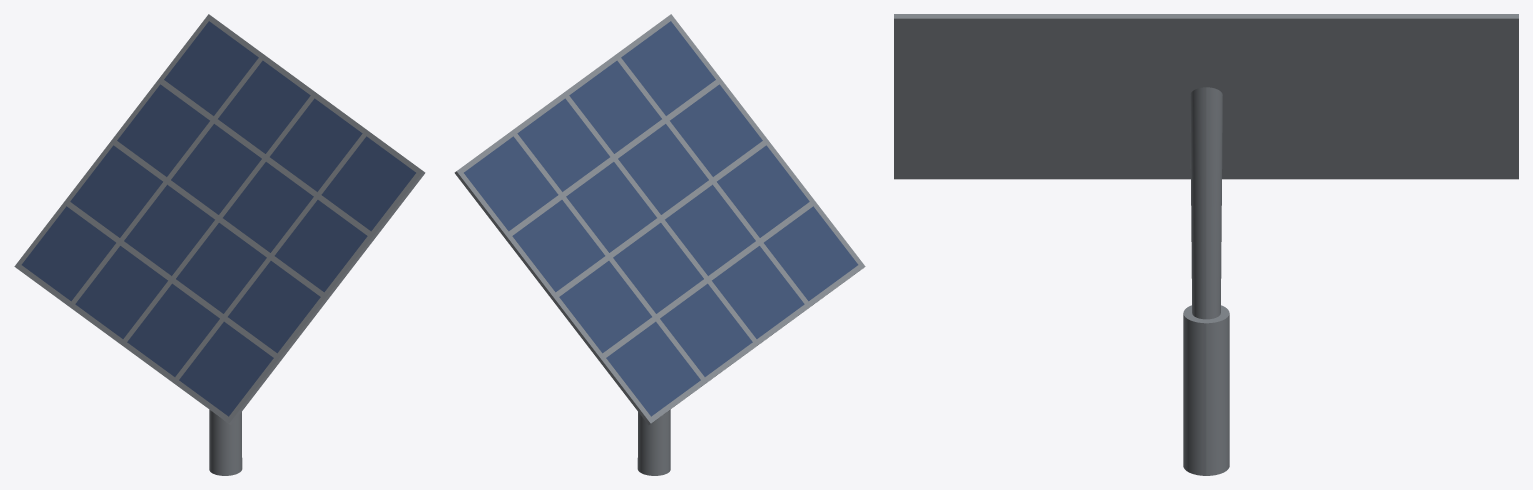
The model's file is SolarPanele.fbx.
3 renders of one model, left to right at view 1: azimuth 30°, elevation 25°; view 2: azimuth 150°, elevation 25°; view 3: azimuth 270°, elevation 25°, orthographic. The views are drawn at different scales.
Parts seen in each view (by area): view 1: Cube.362; view 2: Cube.362; view 3: Cube.362.
Boxes of the visible parts, x1,y1,x2,y2 form: Cube.362: [14, 14, 425, 475]; Cube.362: [454, 14, 865, 475]; Cube.362: [894, 14, 1518, 475].
Bounding box in the file's own units: 4.61 × 2.44 × 4.2.
